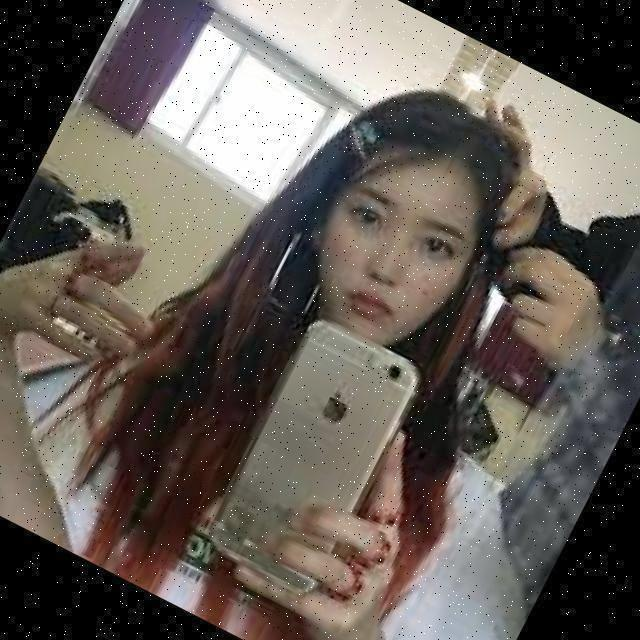phone: (210, 311, 418, 601)
